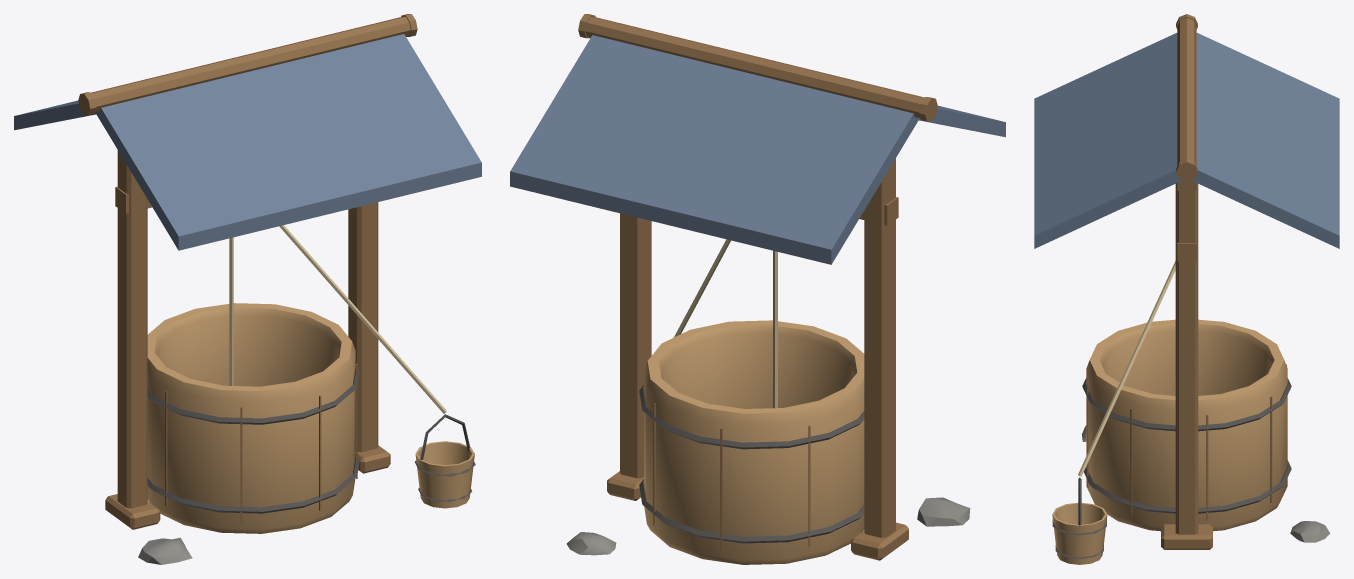
File: furn_well.glb
The picture shows the model from 3 angles, left to right: view 1: azimuth 30°, elevation 25°; view 2: azimuth 150°, elevation 25°; view 3: azimuth 270°, elevation 25°; orthographic projection. The views are drawn at different scales.
Visible parts, largest first — view 1: furn_well_body; view 2: furn_well_body; view 3: furn_well_body.
Boxes of the visible parts, left/top/right/bottom form: furn_well_body: left=14, top=14, right=481, bottom=564; furn_well_body: left=510, top=14, right=1005, bottom=564; furn_well_body: left=1034, top=14, right=1339, bottom=564.
Size of the model in its own units: 1.09 by 1.37 by 0.94.
